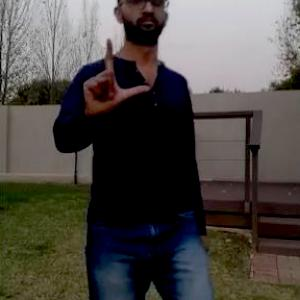land_hand: (82, 30, 158, 122)
